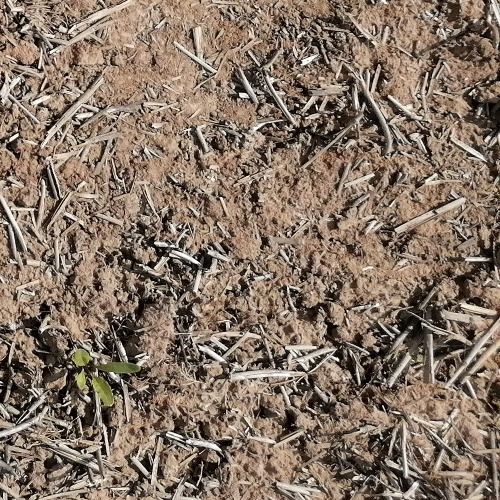beet: (74, 349, 140, 406)
